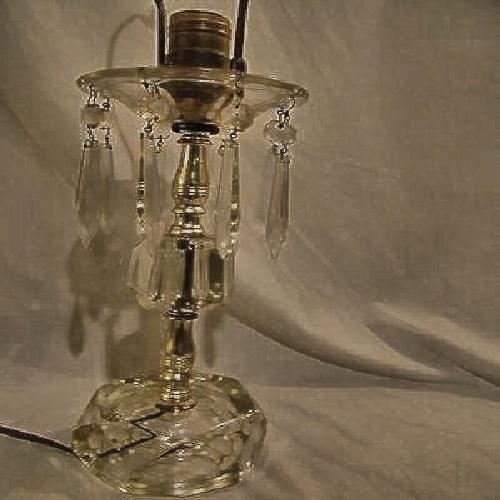lamp: (89, 56, 305, 492)
